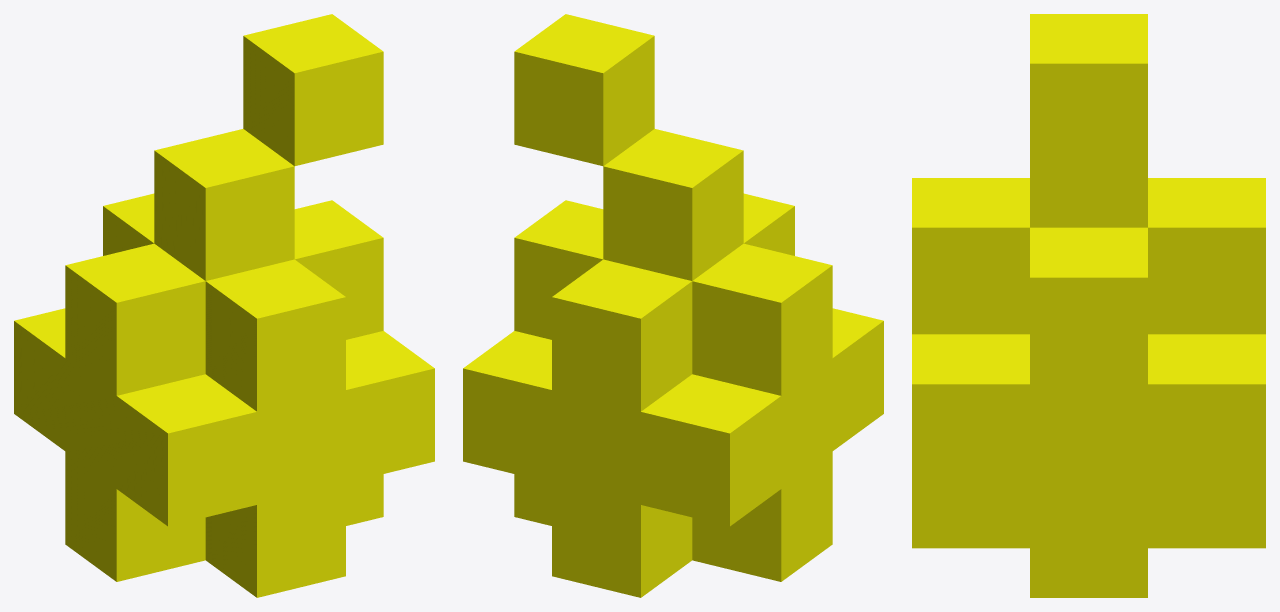
File: voxel-village-apple.glb
3 views of the same model, side by side, from view 1: azimuth 30°, elevation 25°; view 2: azimuth 150°, elevation 25°; view 3: azimuth 270°, elevation 25° (orthographic). The views are drawn at different scales.
Visible parts, largest first — view 1: VS_Villagers_Apple; view 2: VS_Villagers_Apple; view 3: VS_Villagers_Apple.
Boxes of the visible parts, x1,y1,x2,y2 form: VS_Villagers_Apple: (14, 14, 434, 597); VS_Villagers_Apple: (463, 14, 883, 597); VS_Villagers_Apple: (912, 14, 1265, 597).
Bounding box in the file's own units: 0.3 × 0.5 × 0.3.
